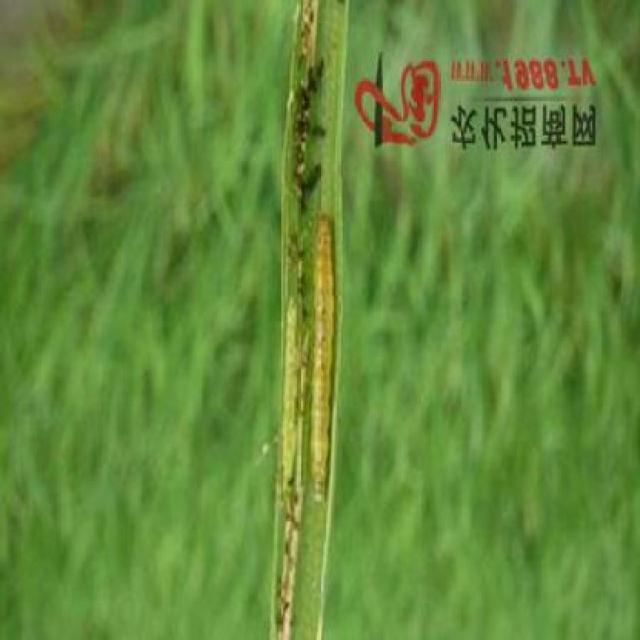leaf-folder: (283, 200, 331, 508)
